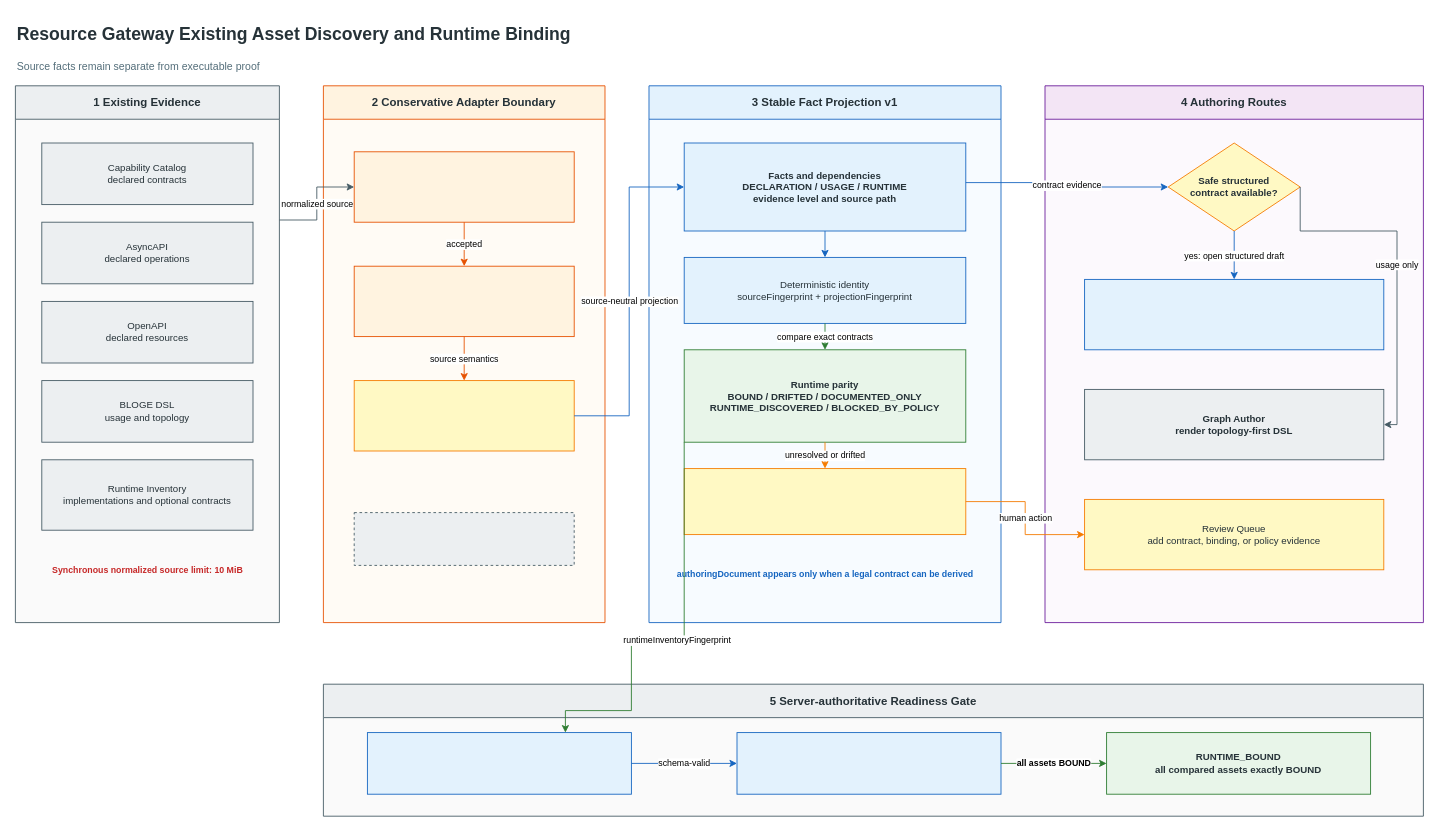
Image size: 1439x832. Some labels were removed from this diagram. The shapes that lost their labels are listed below. From the top down, each one's centre as x and y in pixels, then its label:
At (x=463, y=186): "Bounded parsing duplicate keys, depth, size, syntax".
At (x=463, y=301): "Source-specific adapters reuse existing import semantics".
At (x=1234, y=314): "Library Builder edit declared schemas and tests".
At (x=463, y=415): "Conservative projector never invents missing schemas".
At (x=824, y=501): "Review items + diagnostics explicit human action, no silent promotion".
At (x=463, y=538): "Legacy source endpoints remain compatible".
At (x=499, y=763): "Authoritative Preview compile + validate + exact runtime snapshot".
At (x=868, y=763): "DESIGN_READY schema-valid authoring and mock/test".
